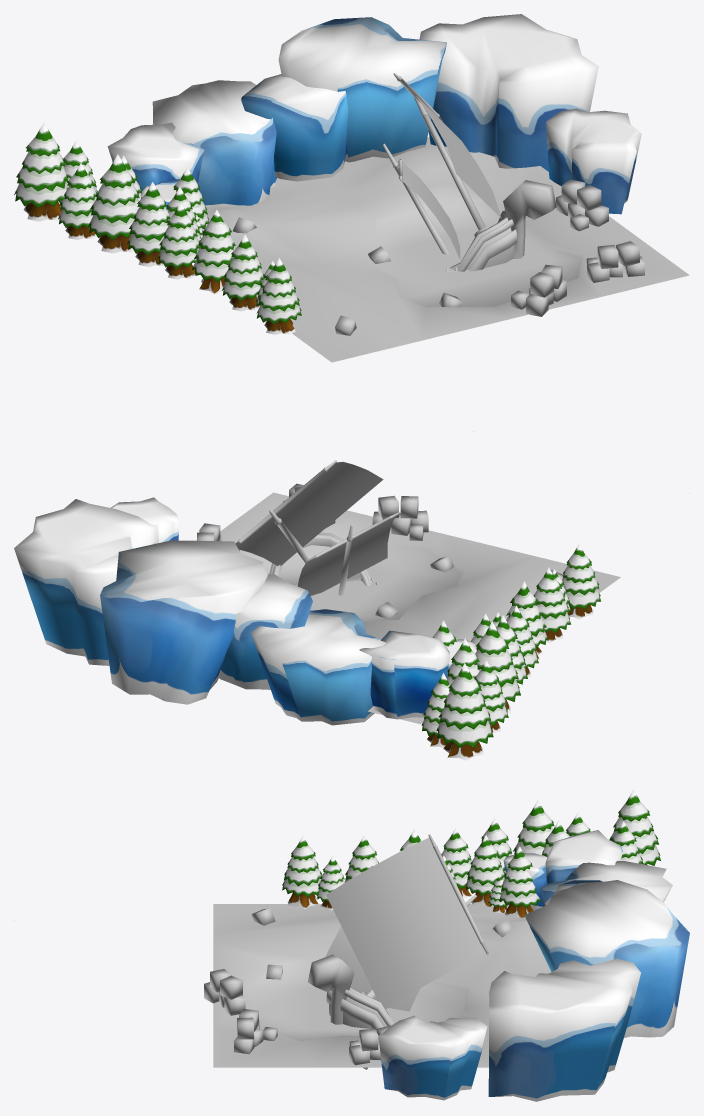
File: Map_1_B_2.FBX
3 renders of one model, top to bottom at view 1: azimuth 30°, elevation 25°; view 2: azimuth 150°, elevation 25°; view 3: azimuth 270°, elevation 25°, orthographic. The views are drawn at different scales.
Parts seen in each view (by area): view 1: tereno2, Iceberg011, Iceberg013, Iceberg012, Iceberg009, Iceberg016, ferry04, Iceberg014, Three055, Three040, ferry02, Three041 (+11 smaller); view 2: Iceberg013, tereno2, Iceberg011, Iceberg012, ferry02, Iceberg014, Iceberg009, ferry03, Three055, Three046, Three040, box006 (+9 smaller); view 3: tereno2, Iceberg011, ferry02, Iceberg013, Iceberg016, ferry04, Iceberg014, Iceberg012, Three046, Three047, Three055, Three050 (+11 smaller).
Part boxes in pixels (x1,y1,x2,y2): tereno2: [202, 137, 689, 362]; Iceberg011: [419, 14, 598, 171]; Iceberg013: [278, 17, 446, 162]; Iceberg012: [152, 80, 276, 205]; Iceberg009: [241, 74, 348, 181]; Iceberg016: [546, 108, 641, 214]; ferry04: [446, 180, 556, 271]; Iceberg014: [107, 122, 204, 193]; Three055: [14, 122, 67, 221]; Three040: [88, 154, 139, 253]; ferry02: [393, 73, 501, 236]; Three041: [127, 182, 169, 266]; Iceberg013: [100, 540, 267, 704]; tereno2: [220, 492, 620, 724]; Iceberg011: [14, 499, 156, 665]; Iceberg012: [251, 609, 385, 725]; ferry02: [235, 460, 383, 565]; Iceberg014: [359, 630, 450, 719]; Iceberg009: [218, 574, 312, 689]; ferry03: [297, 512, 400, 595]; Three055: [436, 663, 493, 760]; Three046: [562, 543, 600, 619]; Three040: [475, 621, 520, 713]; box006: [372, 495, 428, 540]; tereno2: [213, 904, 551, 1067]; Iceberg011: [488, 958, 640, 1101]; ferry02: [326, 834, 488, 1009]; Iceberg013: [524, 880, 689, 1037]; Iceberg016: [378, 1015, 487, 1100]; ferry04: [308, 954, 394, 1069]; Iceberg014: [545, 830, 622, 883]; Iceberg012: [540, 861, 672, 906]; Three046: [282, 836, 322, 908]; Three047: [499, 846, 540, 917]; Three055: [609, 789, 660, 865]; Three050: [465, 835, 505, 907].
Size of the model in its own units: 717 by 302 by 873.
